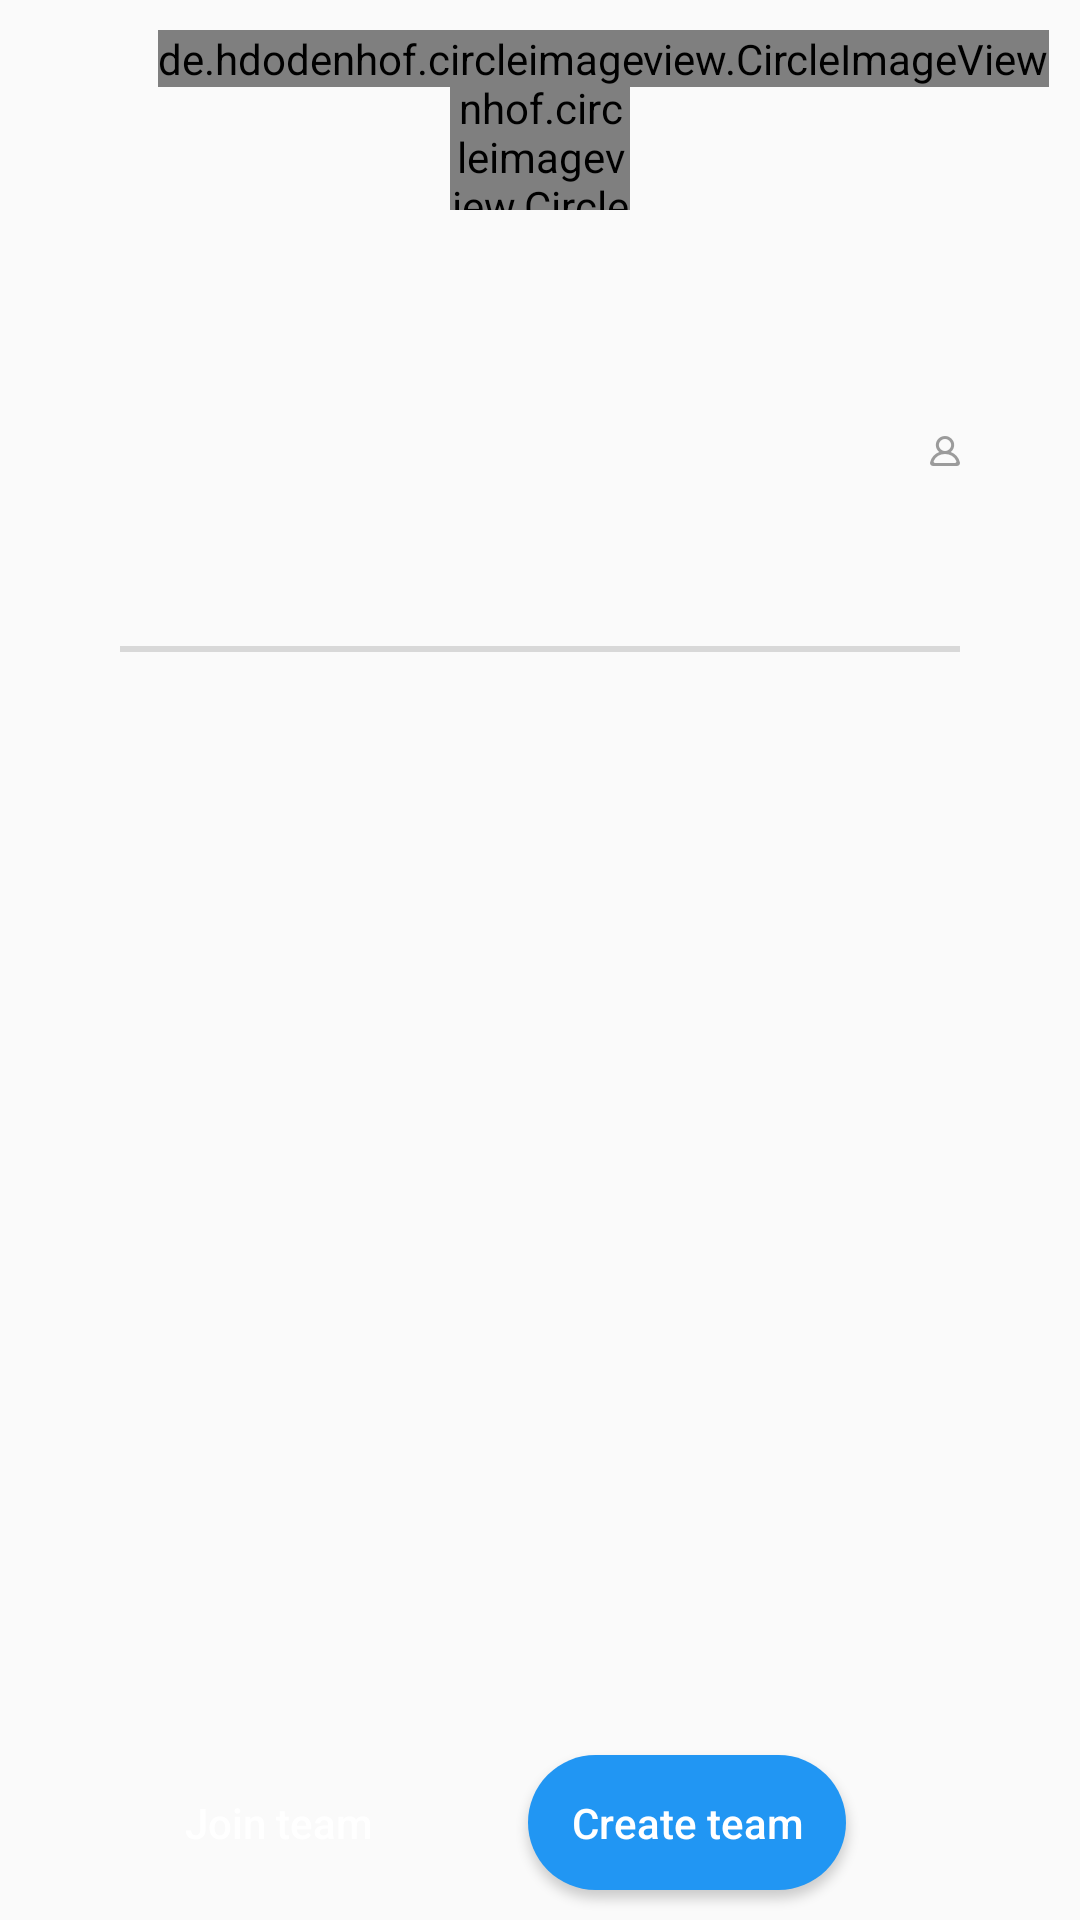

Screen size 1080px×1920px. Icon name, then its center in pixels as point (x, y):
profile round: point (945, 451)
